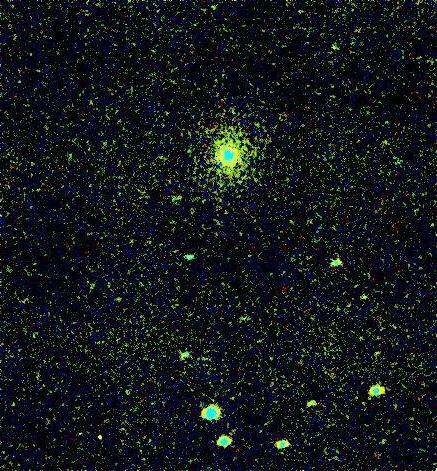star: (319, 32, 349, 62)
